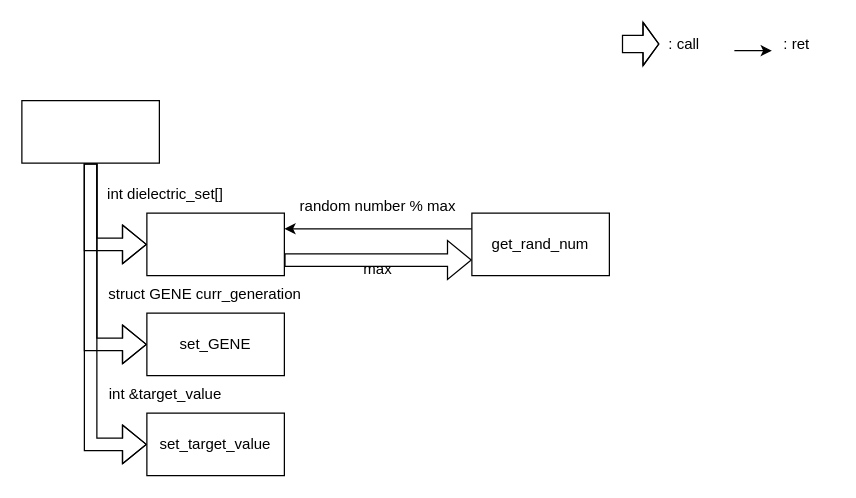
Image size: 856x498. Some labels were removed from this diagram. The centre of each missing label's shape, as x and y in pixels:
"init" belongs at pixel 90 131.
"set_dielectric" belongs at pixel 215 244.
